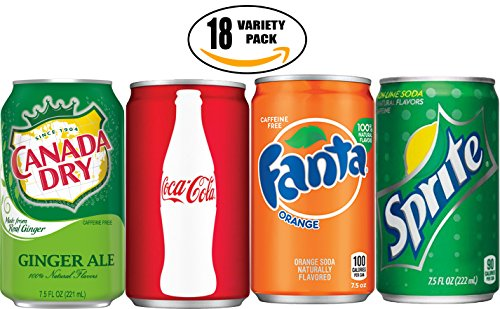Lata: (1, 76, 126, 307)
